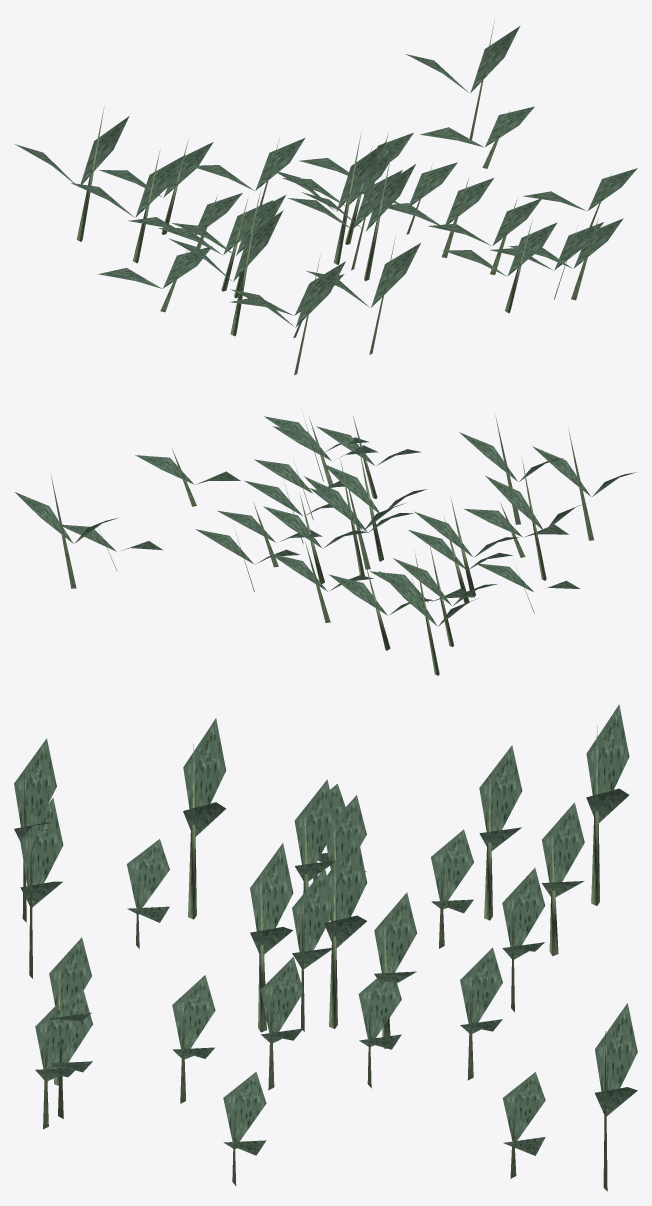
Rendered from grass_v02_lod.glb.
The picture shows the model from 3 angles, top to bottom: view 1: azimuth 30°, elevation 25°; view 2: azimuth 150°, elevation 25°; view 3: azimuth 270°, elevation 25°; orthographic projection. The views are drawn at different scales.
Parts seen in each view (by area): view 1: grass_v02; view 2: grass_v02; view 3: grass_v02.
Boxes of the visible parts, x1,y1,x2,y2 form: grass_v02: (15, 21, 637, 375); grass_v02: (15, 415, 635, 675); grass_v02: (14, 704, 637, 1191).
Bounding box in the file's own units: 4.04 × 0.979 × 2.82.
Materials: 1 (1 with a texture image).
